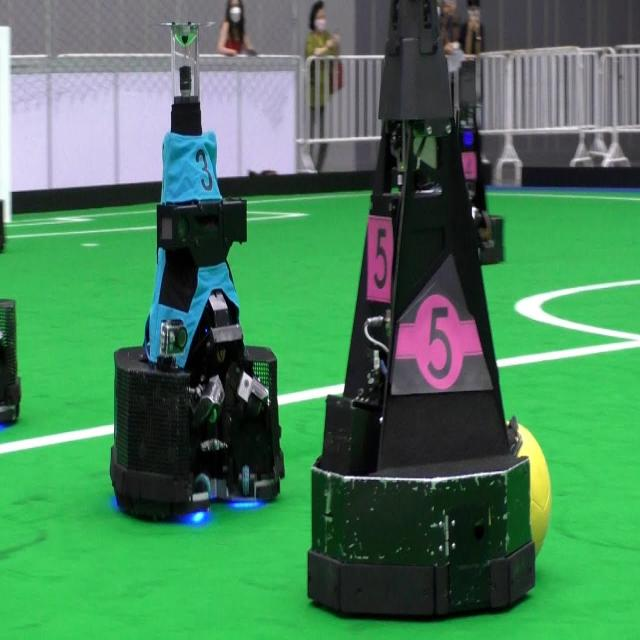robot: (307, 0, 537, 624), (101, 11, 290, 557)
